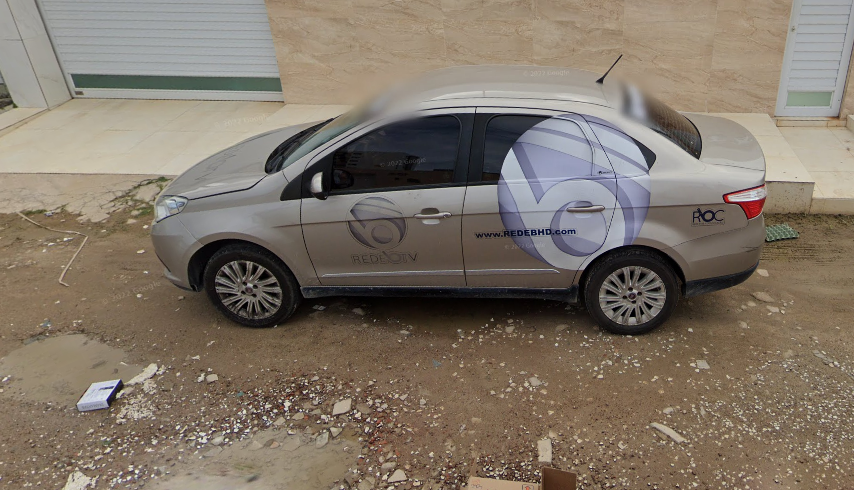car: (105, 45, 779, 340)
